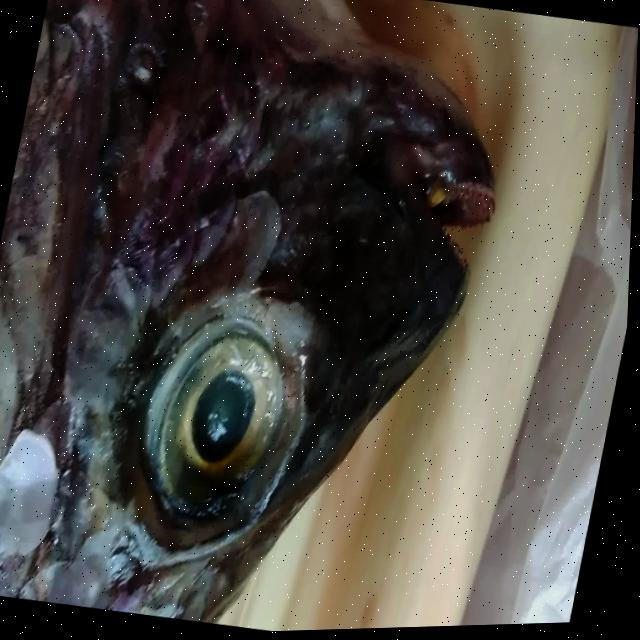Non-Fresh: (66, 187, 376, 611)
